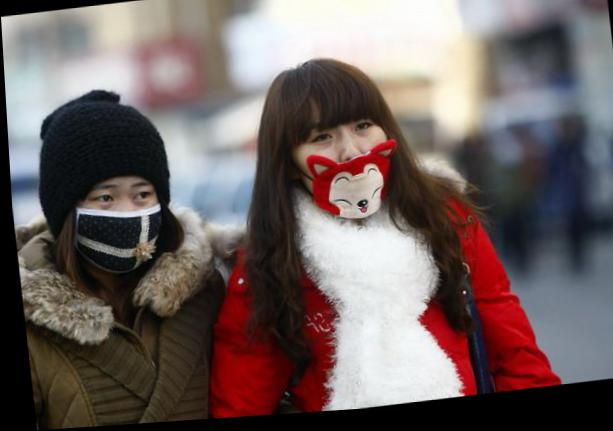OK: (69, 176, 170, 278)
WRONG: (286, 111, 397, 218)
